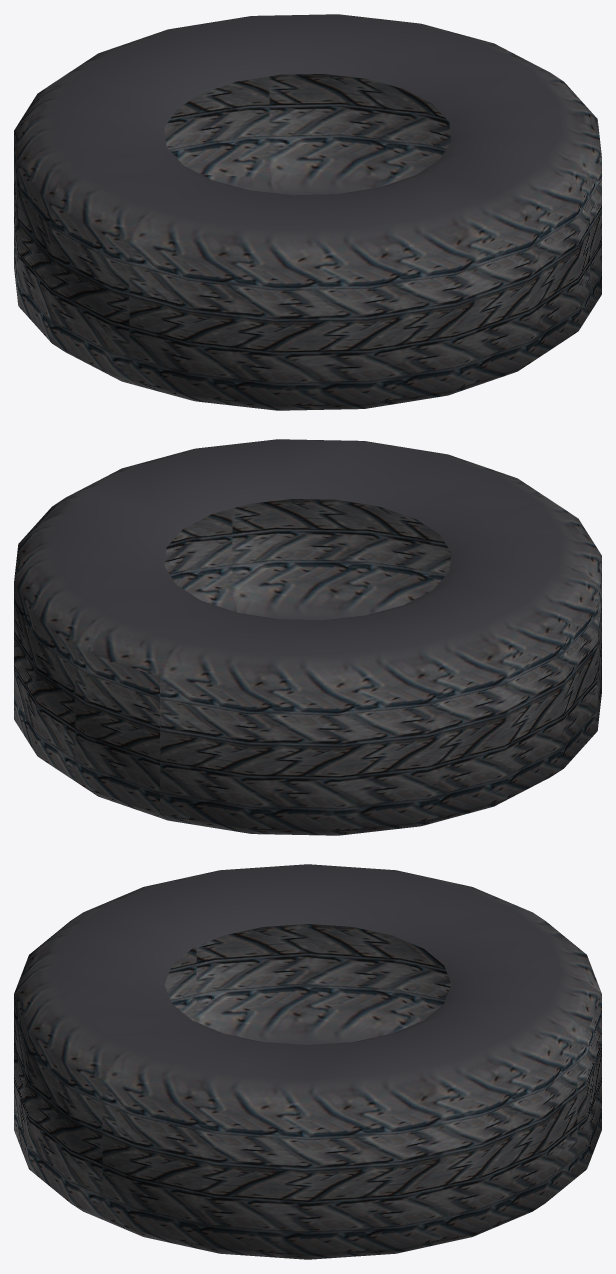
Rendered from tire.obj.
3 renders of one model, top to bottom at view 1: azimuth 30°, elevation 25°; view 2: azimuth 150°, elevation 25°; view 3: azimuth 270°, elevation 25°, orthographic.
Visible parts, largest first — view 1: Object02; view 2: Object02; view 3: Object02.
Part boxes in pixels (x1,y1,x2,y2): Object02: [14, 14, 601, 410]; Object02: [14, 439, 601, 835]; Object02: [14, 864, 601, 1259].
Bounding box in the file's own units: 0.9402 × 0.317 × 0.9402.
Materials: 2 (2 with a texture image).
